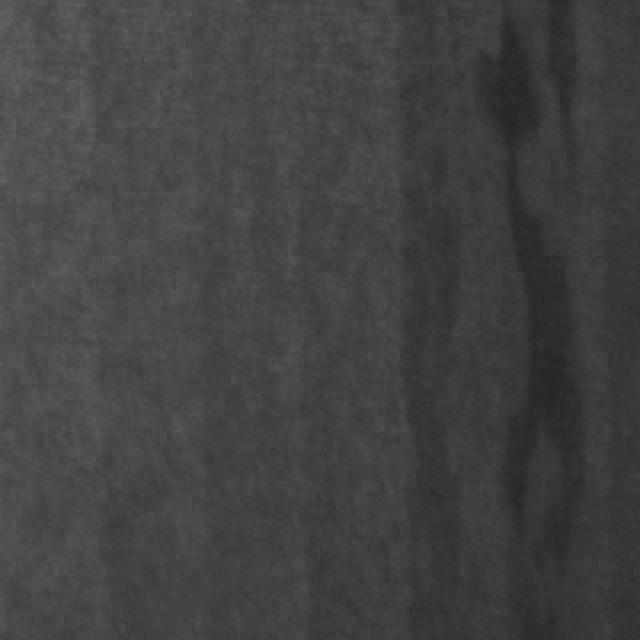inclusion: (489, 193, 591, 565), (400, 27, 458, 615), (468, 0, 591, 174)
